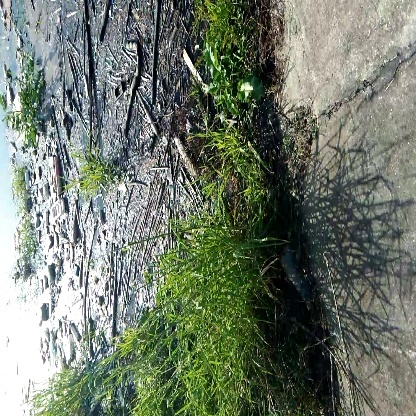branch: (77, 7, 109, 146)
